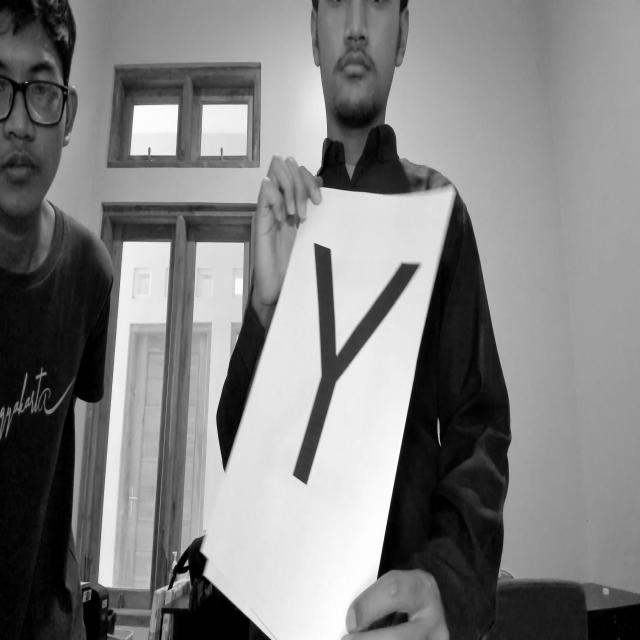y: (274, 226, 436, 518)
